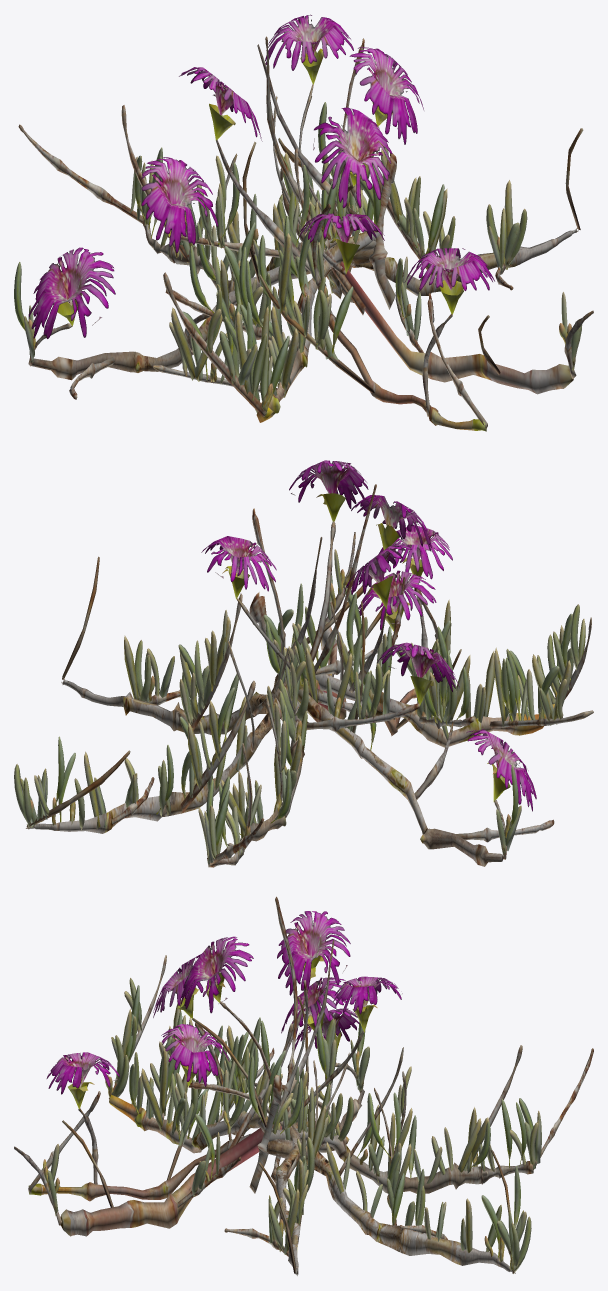
File: leipoldtia_schultzei_single_1.fbx
3 renders of one model, top to bottom at view 1: azimuth 30°, elevation 25°; view 2: azimuth 150°, elevation 25°; view 3: azimuth 270°, elevation 25°, orthographic. The views are drawn at different scales.
Visible parts, largest first — view 1: leipoldtia_schultzei_single_1; view 2: leipoldtia_schultzei_single_1; view 3: leipoldtia_schultzei_single_1.
Boxes of the visible parts, <box> form: leipoldtia_schultzei_single_1: <box>14,14,593,431</box>; leipoldtia_schultzei_single_1: <box>14,460,593,867</box>; leipoldtia_schultzei_single_1: <box>14,896,593,1275</box>.
Bounding box in the file's own units: 0.4516 × 0.28 × 0.5.
Materials: 1 (1 with a texture image).
